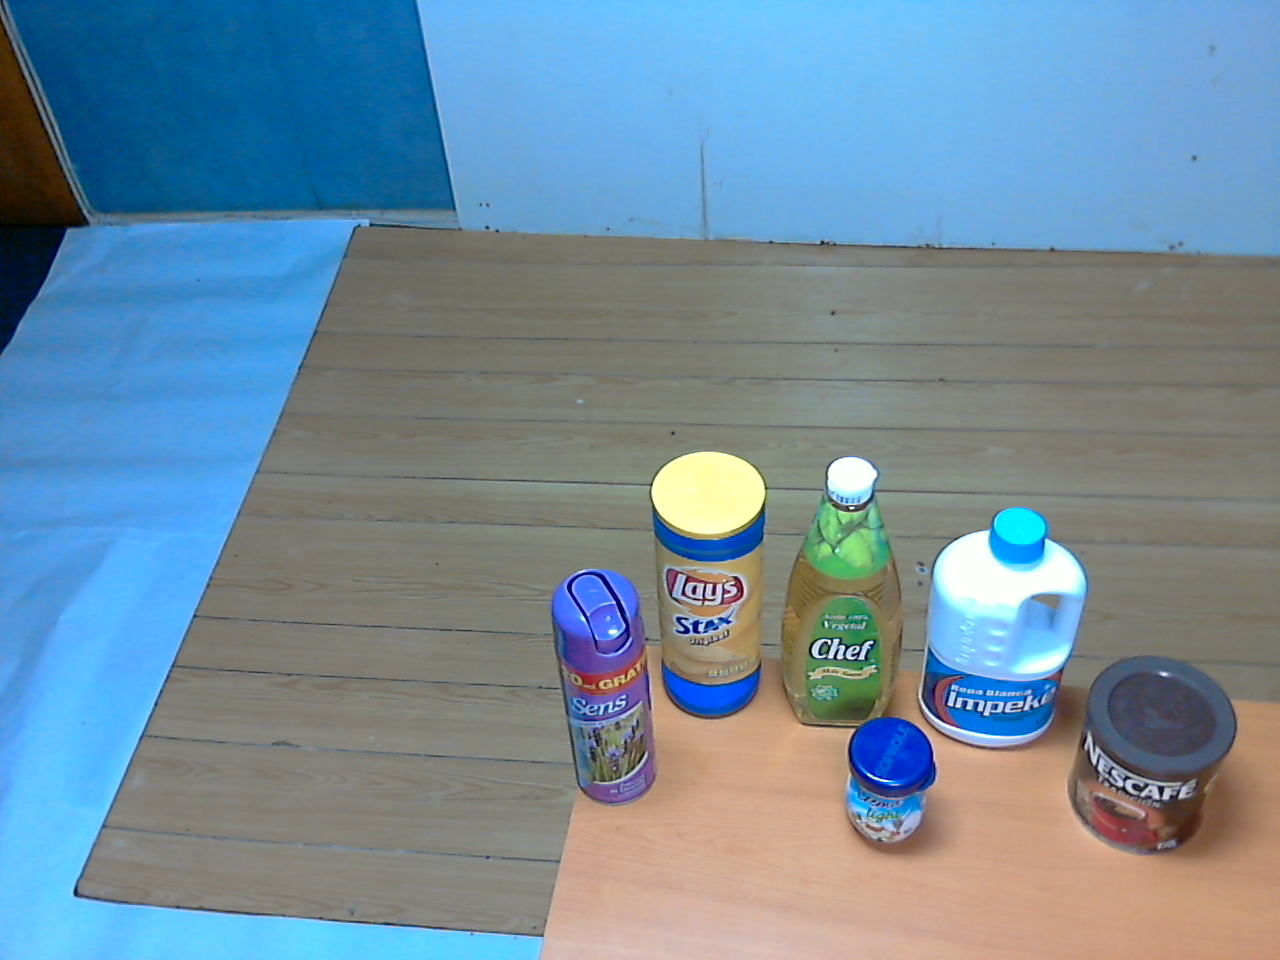aceite: (771, 448, 910, 734)
aerosol: (546, 559, 667, 809)
cafe: (1063, 651, 1245, 857)
cloro: (914, 491, 1092, 763)
crema: (839, 710, 945, 853)
papas: (644, 445, 775, 728)
